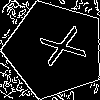X: (30, 25, 87, 72)
